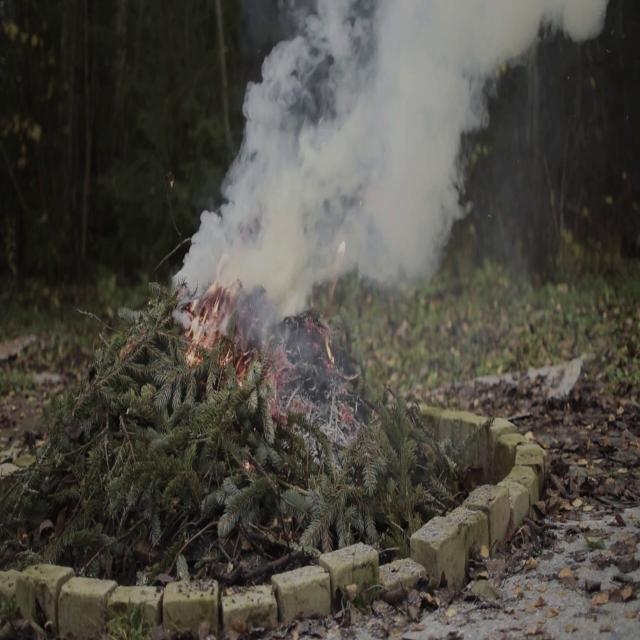Smoke: (164, 0, 566, 317)
